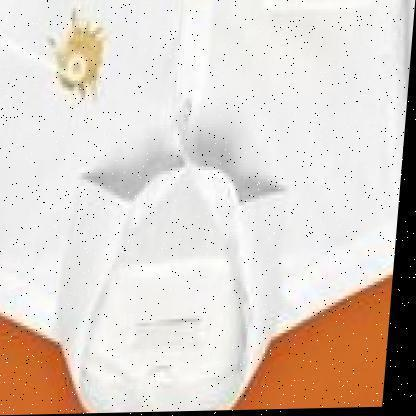coffee: (57, 29, 103, 90)
